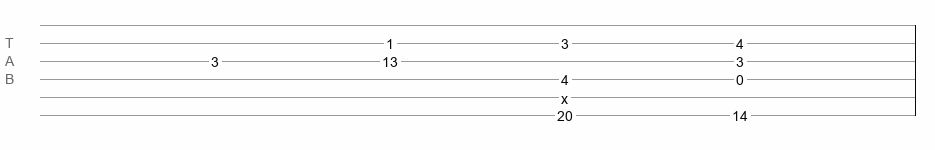0: (736, 72, 744, 82)
1: (386, 36, 394, 46)
13: (382, 54, 398, 64)
14: (732, 108, 748, 118)
20: (557, 108, 573, 118)
3: (211, 54, 219, 64), (561, 36, 569, 46), (736, 54, 744, 64)
4: (561, 72, 569, 82), (736, 36, 744, 46)
x: (561, 91, 568, 99)
